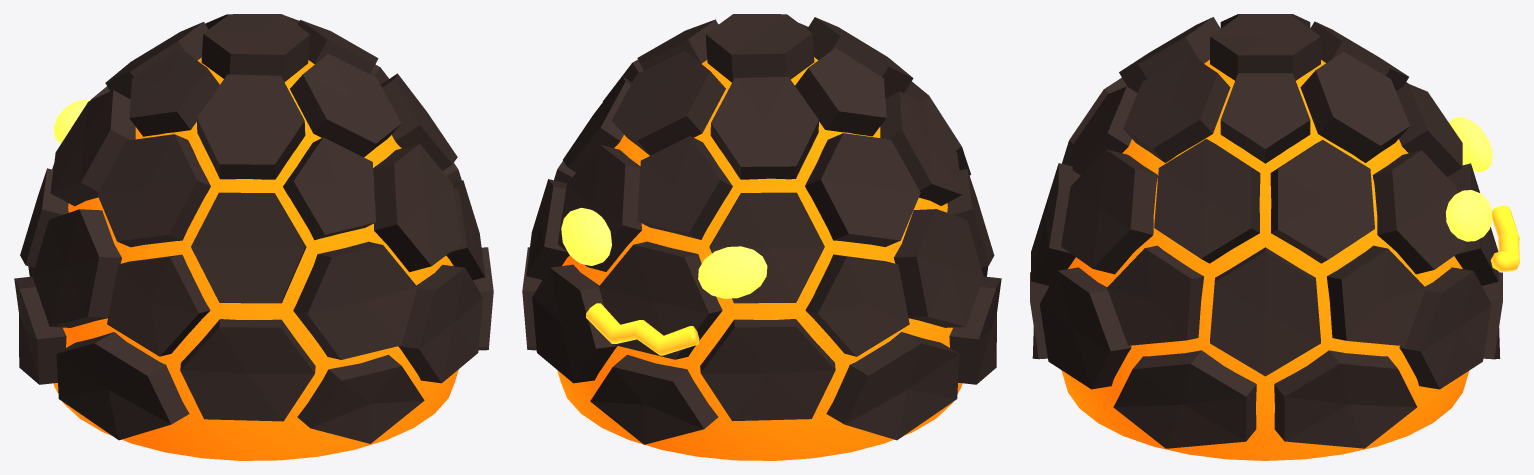
Rendered from Lava.glb.
3 renders of one model, left to right at view 1: azimuth 30°, elevation 25°; view 2: azimuth 150°, elevation 25°; view 3: azimuth 270°, elevation 25°, orthographic.
Parts seen in each view (by area): view 1: Body, Core, Eyes; view 2: Body, Core, Eyes, Mouth; view 3: Body, Core, Eyes, Mouth.
Part boxes in pixels (x1,y1,x2,y2): Body: (14, 14, 493, 443); Core: (53, 57, 458, 460); Eyes: (54, 99, 90, 143); Body: (522, 14, 1001, 444); Core: (557, 57, 962, 460); Eyes: (561, 207, 767, 298); Mouth: (586, 303, 699, 355); Body: (1030, 14, 1502, 448); Core: (1061, 60, 1469, 460); Eyes: (1445, 116, 1492, 241); Mouth: (1490, 205, 1519, 271).
Size of the model in its own units: 3.63 by 2.86 by 3.72.
